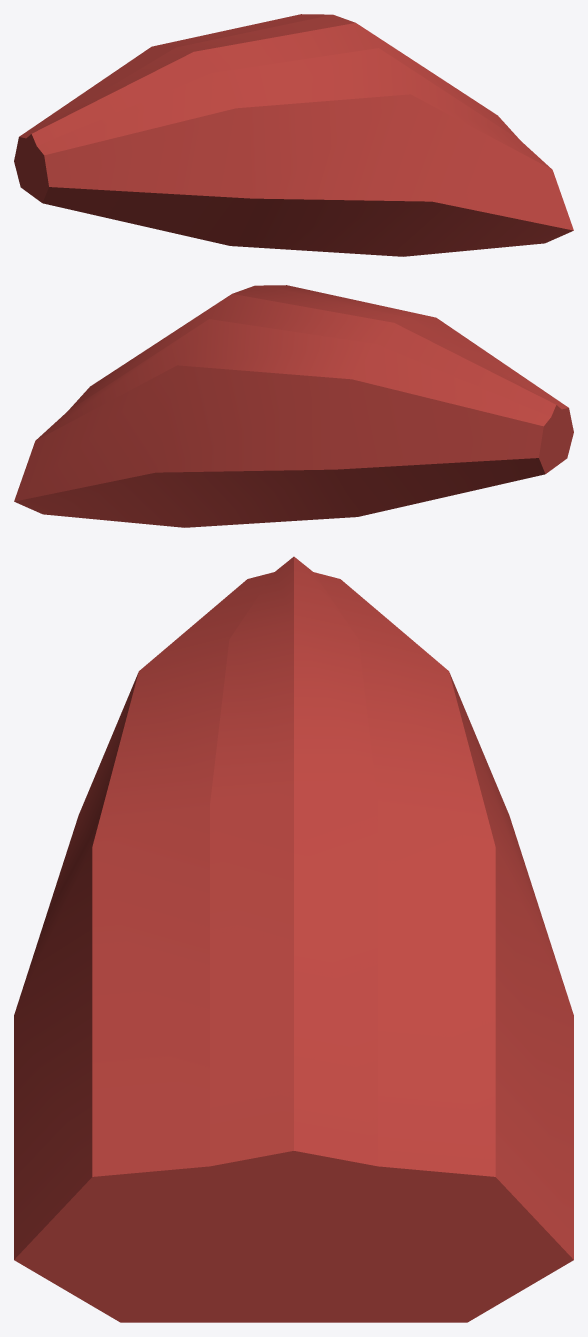
Rendered from racing_lod2.glb.
3 views of the same model, one above another, from view 1: azimuth 30°, elevation 25°; view 2: azimuth 150°, elevation 25°; view 3: azimuth 270°, elevation 25° (orthographic). The views are drawn at different scales.
Visible parts, largest first — view 1: racing_lod2; view 2: racing_lod2; view 3: racing_lod2.
Part boxes in pixels (bbox=[...]): racing_lod2: bbox=[14, 14, 573, 256]; racing_lod2: bbox=[14, 285, 573, 527]; racing_lod2: bbox=[14, 556, 573, 1322].
Bounding box in the file's own units: 0.46 × 0.218 × 0.26.
